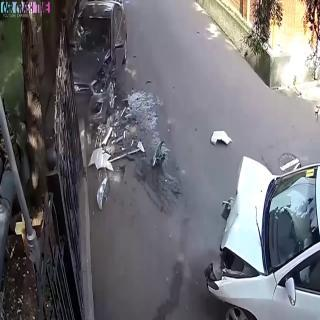Vehicle-Crash_Detected: (58, 8, 303, 309)
